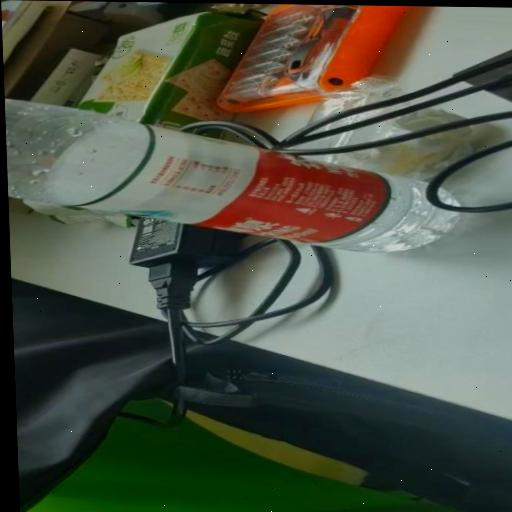bottle: (2, 43, 472, 262)
